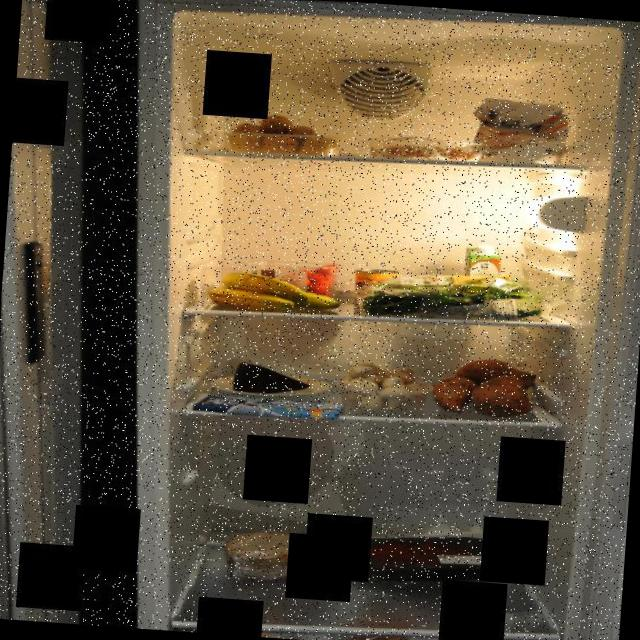Carne vacuno: (336, 524, 514, 593)
Champiñones: (334, 356, 430, 415)
Gambas/Langostinos: (368, 138, 484, 166)
Patata: (224, 106, 345, 162)
Plátano: (203, 263, 343, 316)
Queso: (228, 357, 312, 398)
bread: (220, 524, 330, 586)
chocolate: (188, 386, 348, 426)
corn: (348, 262, 404, 312)
flour: (461, 90, 574, 171)
heavy_cream: (460, 240, 506, 312)
spinach: (358, 264, 548, 326)
sweet_potato: (428, 352, 540, 422)
